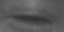LeftEyeFatigue: (4, 4, 57, 32)
